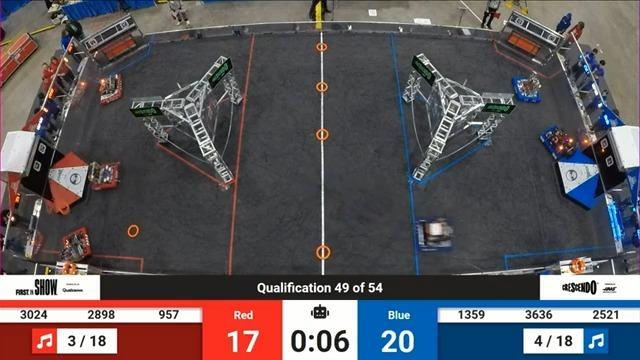robot: (406, 213, 461, 256), (82, 154, 123, 194), (504, 70, 547, 106), (536, 123, 575, 161), (56, 226, 94, 264), (96, 71, 129, 110)
